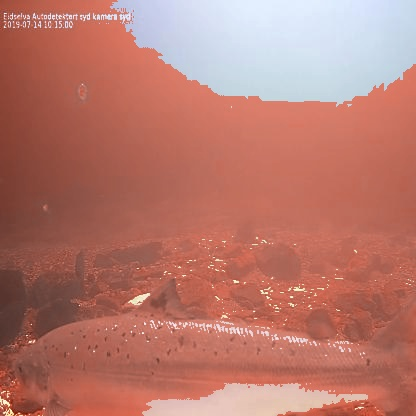salmon: (11, 273, 416, 416)
